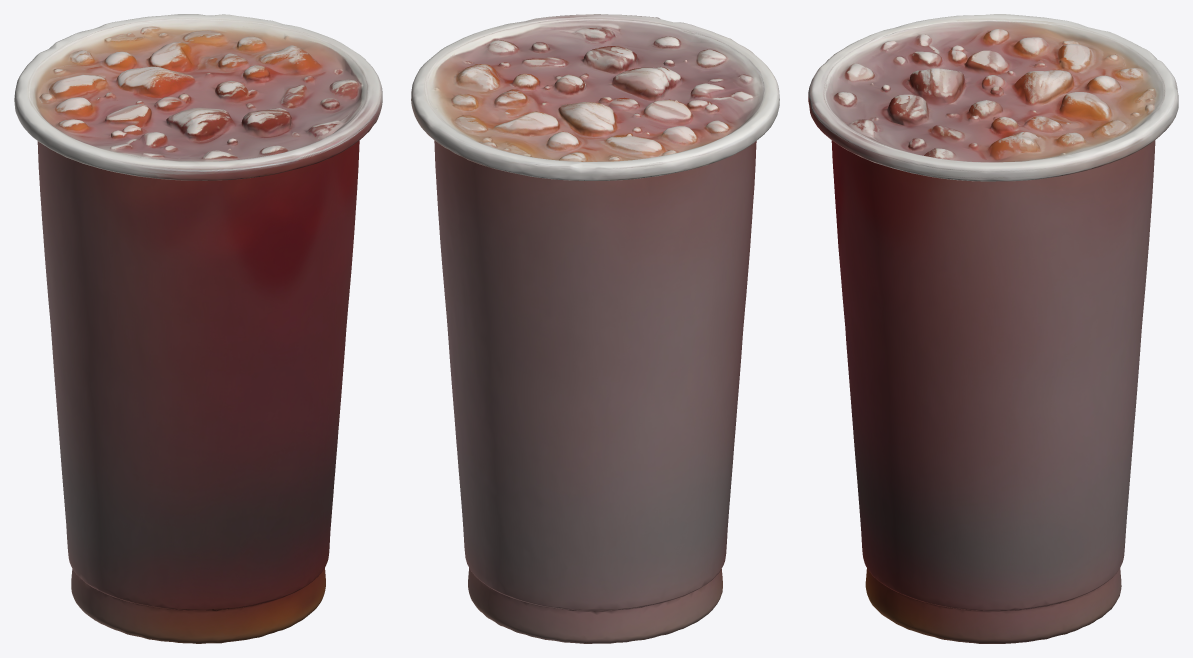
The model's file is MoccohinchiModel.glb.
3 renders of one model, left to right at view 1: azimuth 30°, elevation 25°; view 2: azimuth 150°, elevation 25°; view 3: azimuth 270°, elevation 25°, orthographic.
Visible parts, largest first — view 1: tripo_node_61eac435-bac9-4a95-8688-a8f731338406; view 2: tripo_node_61eac435-bac9-4a95-8688-a8f731338406; view 3: tripo_node_61eac435-bac9-4a95-8688-a8f731338406.
Boxes of the visible parts, x1=… form: tripo_node_61eac435-bac9-4a95-8688-a8f731338406: x1=14, y1=14, x2=382, y2=643; tripo_node_61eac435-bac9-4a95-8688-a8f731338406: x1=411, y1=14, x2=779, y2=643; tripo_node_61eac435-bac9-4a95-8688-a8f731338406: x1=808, y1=14, x2=1178, y2=643.
Size of the model in its own units: 0.6587 by 1 by 0.6599.
1 material, 1 textured.
